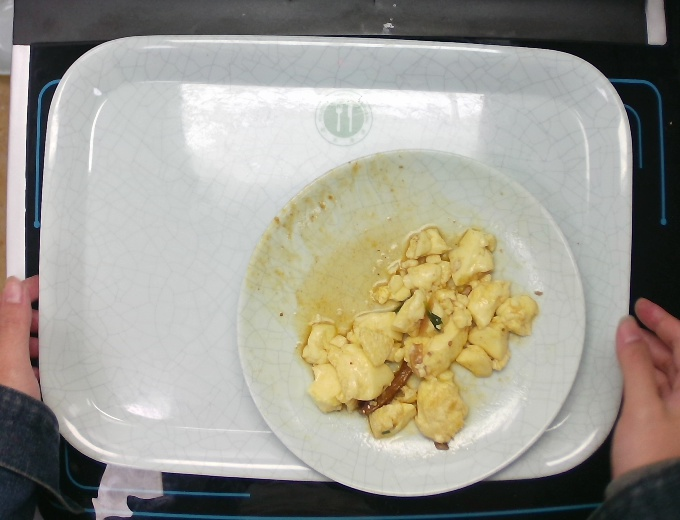JYsf-Da_Yuan_Pan: (233, 145, 591, 499)
